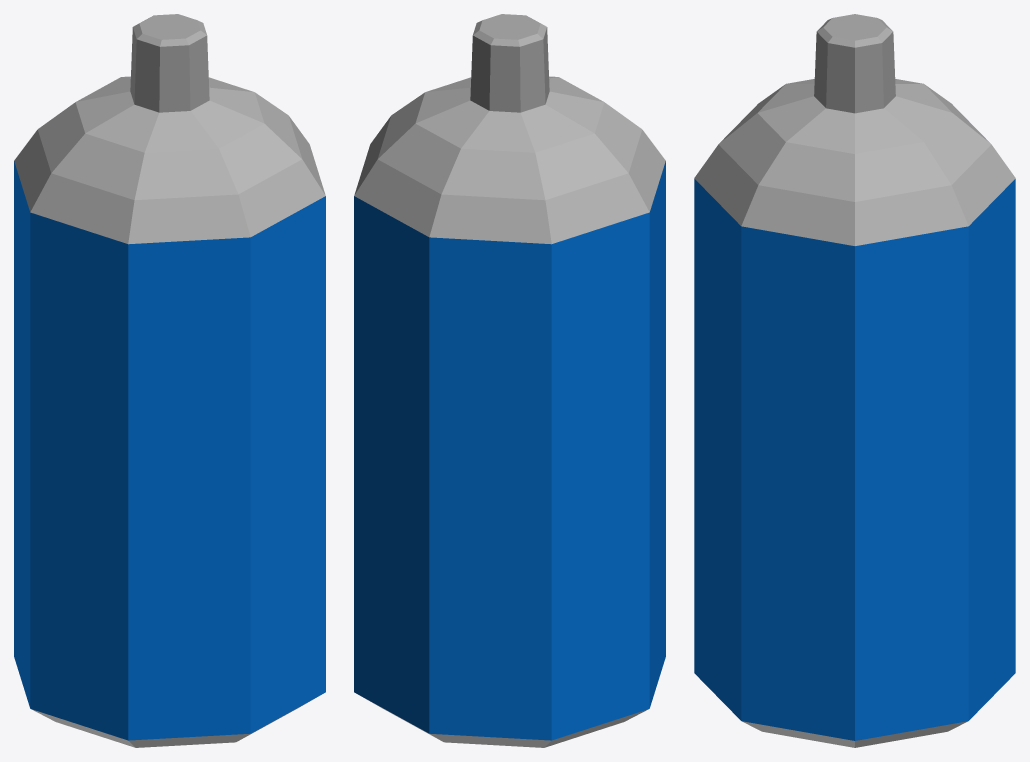
The model's file is oxygenTank.fbx.
3 views of the same model, side by side, from view 1: azimuth 30°, elevation 25°; view 2: azimuth 150°, elevation 25°; view 3: azimuth 270°, elevation 25° (orthographic).
Parts seen in each view (by area): view 1: pCylinder1; view 2: pCylinder1; view 3: pCylinder1.
Part boxes in pixels (<box>): pCylinder1: <box>14,14,325,747</box>; pCylinder1: <box>354,14,665,747</box>; pCylinder1: <box>694,14,1015,747</box>.
Size of the model in its own units: 2 by 4.59 by 2.
